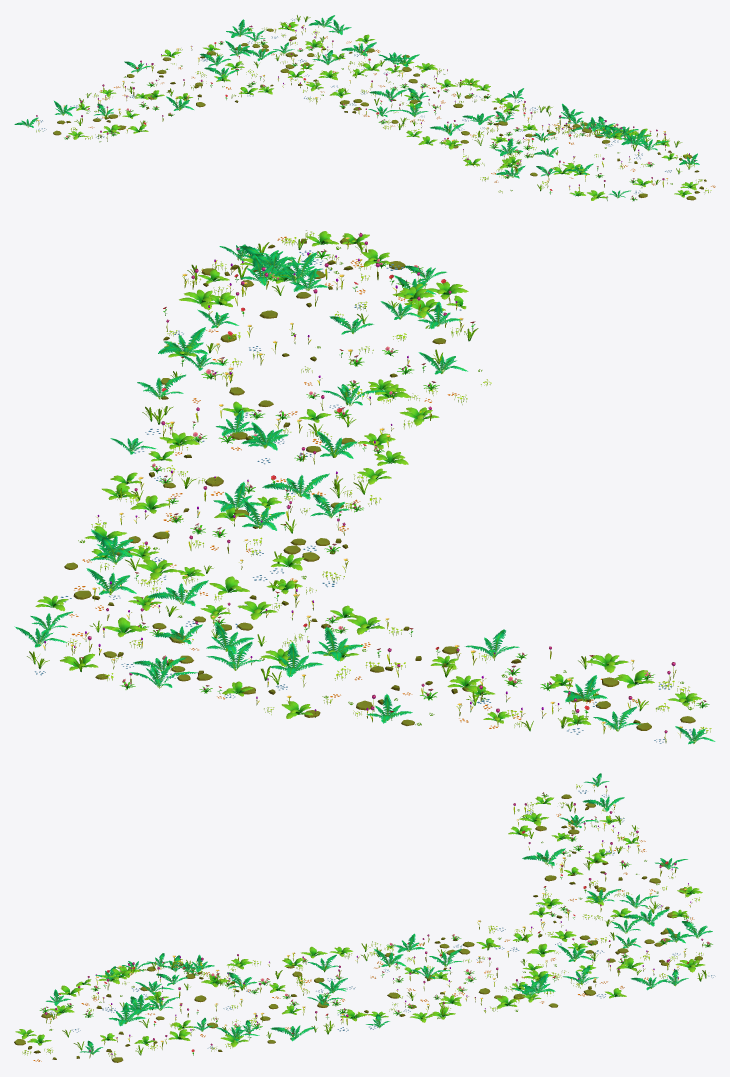
File: flores.fbx
3 views of the same model, one above another, from view 1: azimuth 30°, elevation 25°; view 2: azimuth 150°, elevation 25°; view 3: azimuth 270°, elevation 25° (orthographic). The views are drawn at different scales.
Visible parts, largest first — view 1: Plane.008; view 2: Plane.008; view 3: Plane.008.
Part boxes in pixels (x1,y1,x2,y2): Plane.008: (14, 15, 715, 201); Plane.008: (14, 230, 715, 744); Plane.008: (14, 773, 715, 1062).
Bounding box in the file's own units: 17.49 × 1.62 × 18.16.
Materials: 2 (1 with a texture image).
